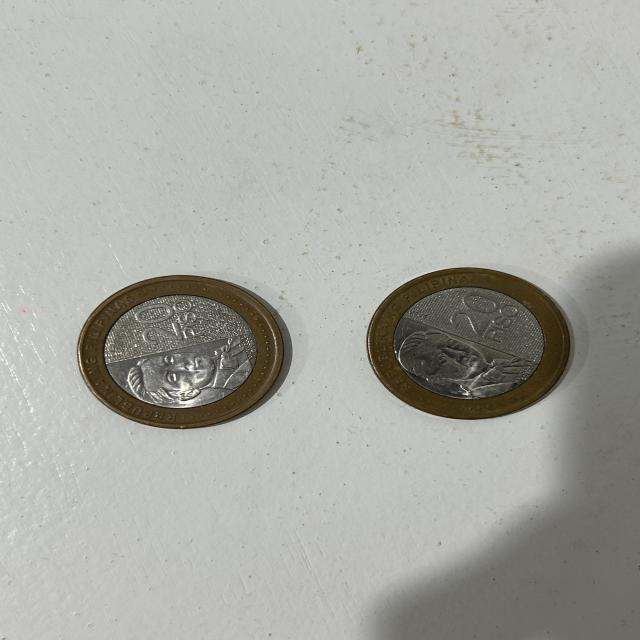20_New_Front: (441, 290, 522, 353), (126, 299, 211, 347)
